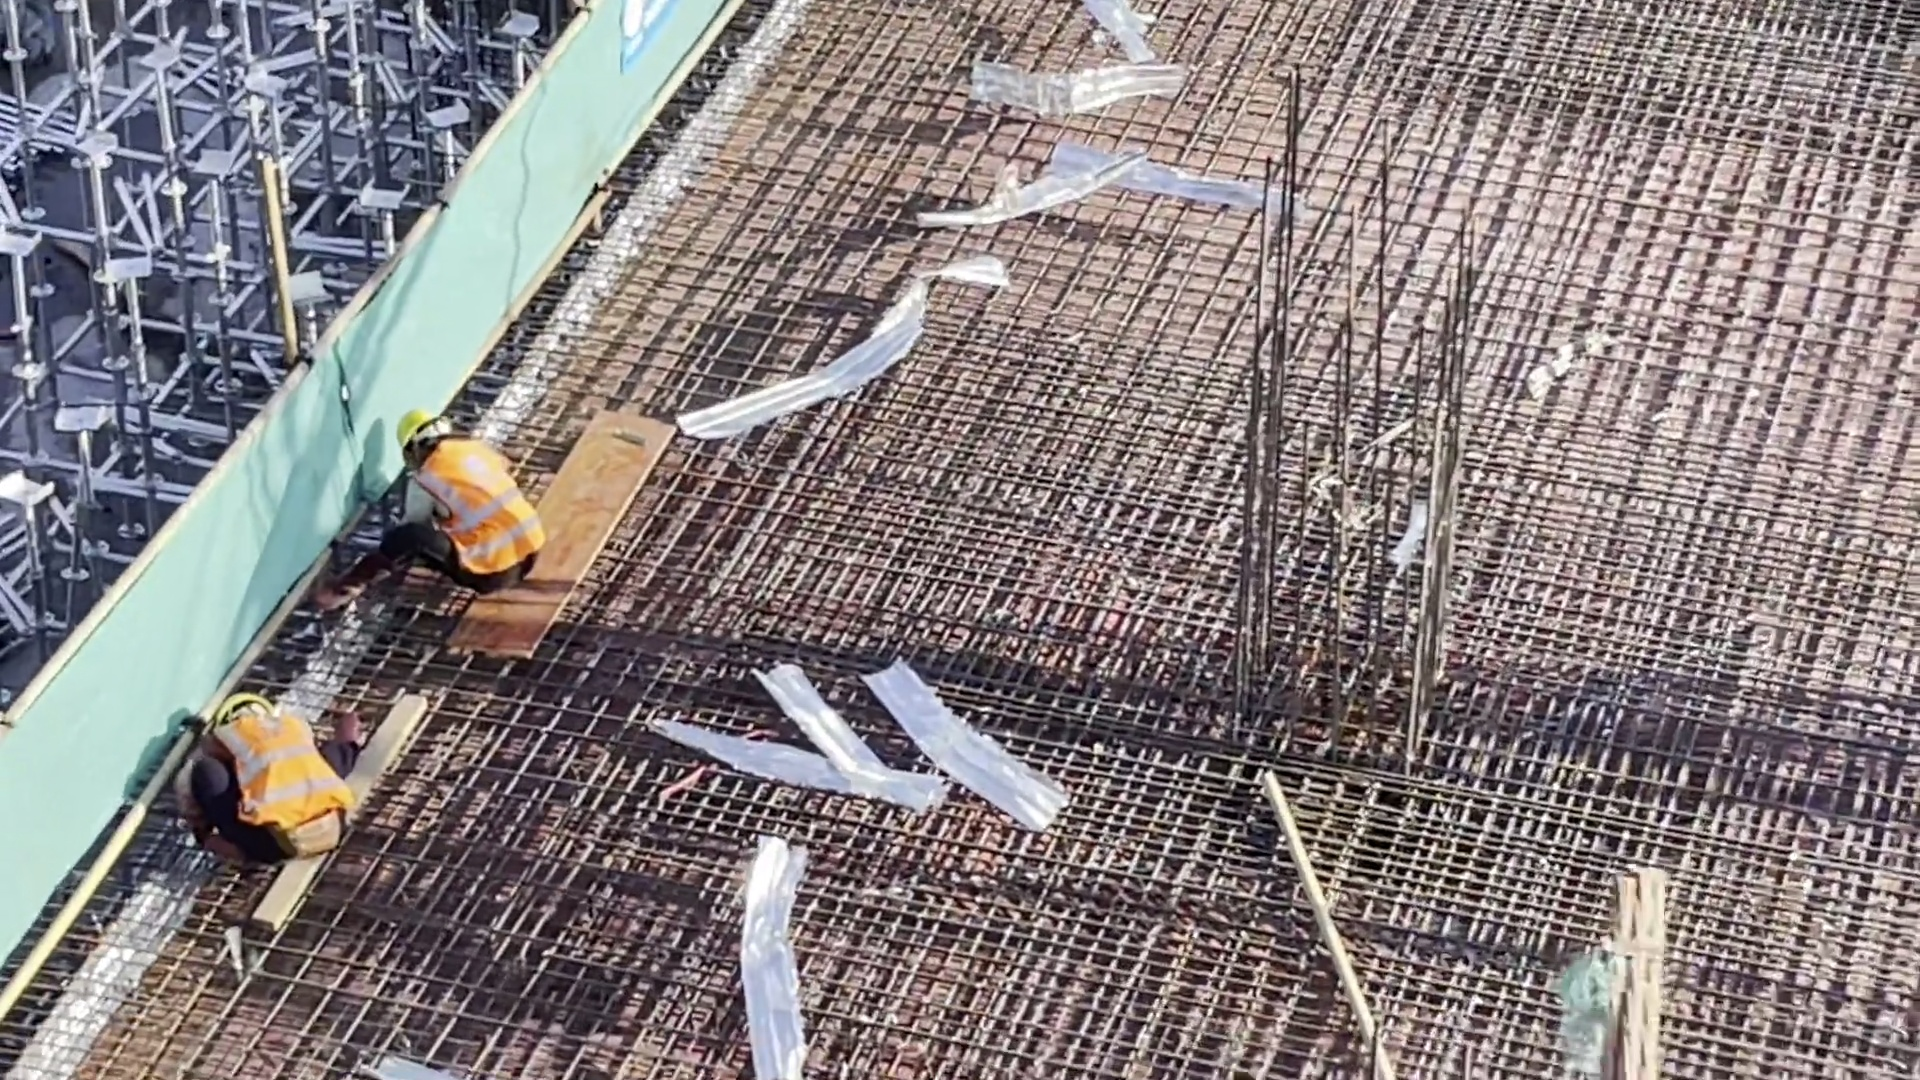helmet: (385, 405, 440, 445), (213, 691, 269, 707)
person: (160, 682, 358, 863), (374, 405, 540, 593)
slogan: (614, 1, 678, 67)
vest: (213, 721, 338, 816), (429, 457, 529, 571)
